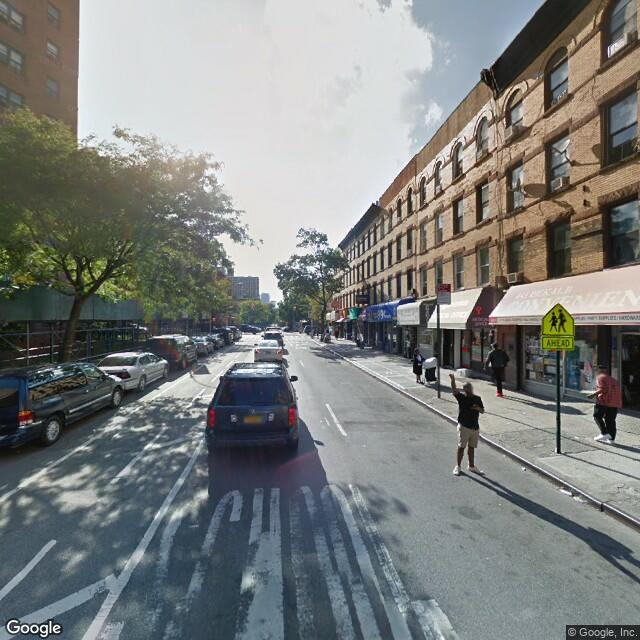litter: (517, 463, 531, 475)
